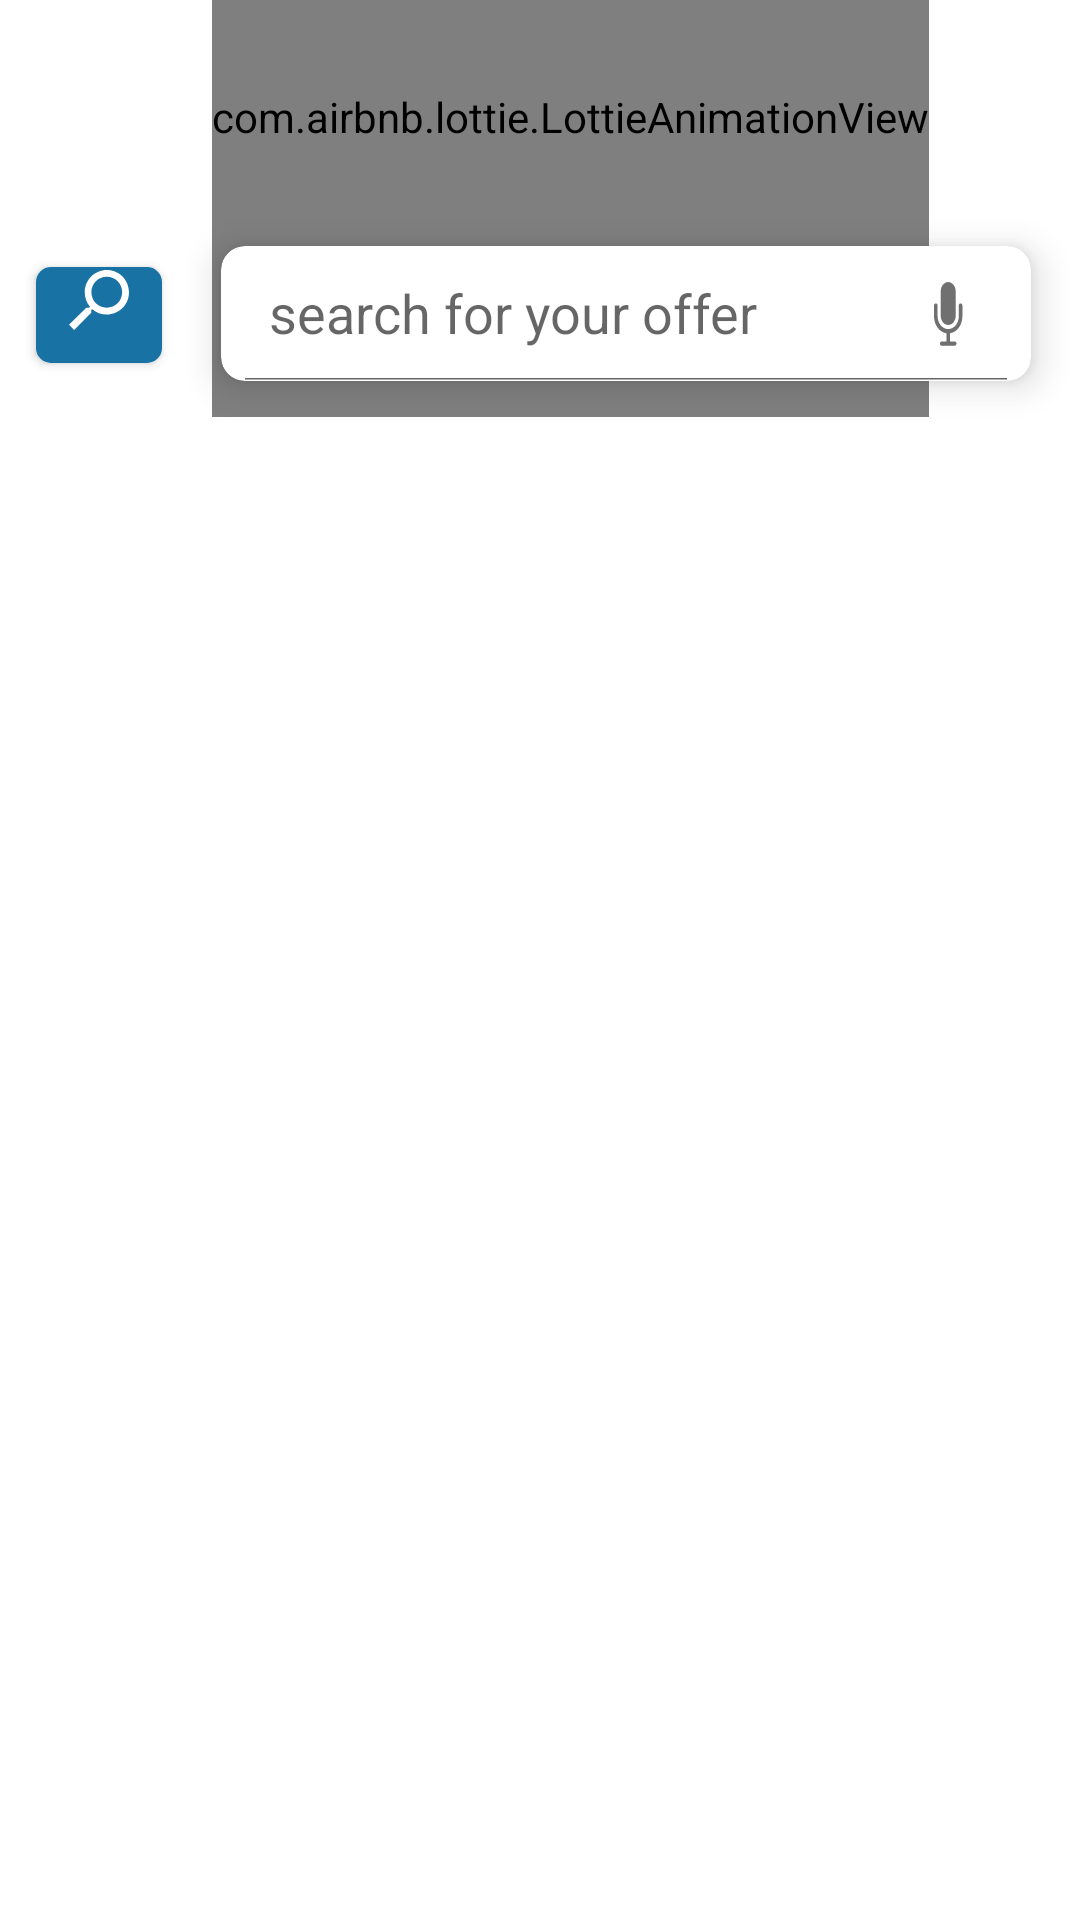

Where icons sit on this 1080 x 1920 app screen, as (x1, y1, x2, y2):
ionic mic: (934, 282, 963, 346)
